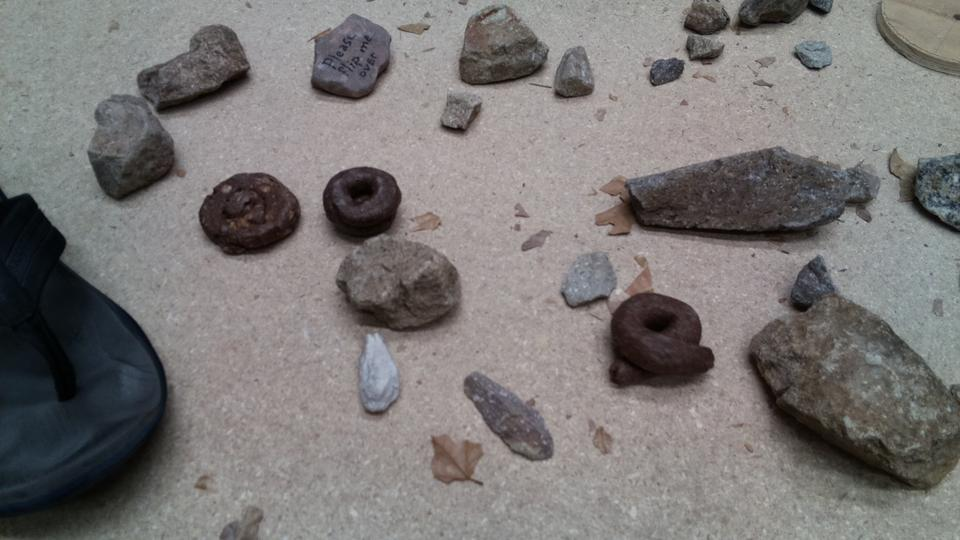poop: (602, 287, 719, 392), (196, 167, 303, 258), (322, 163, 405, 242)
